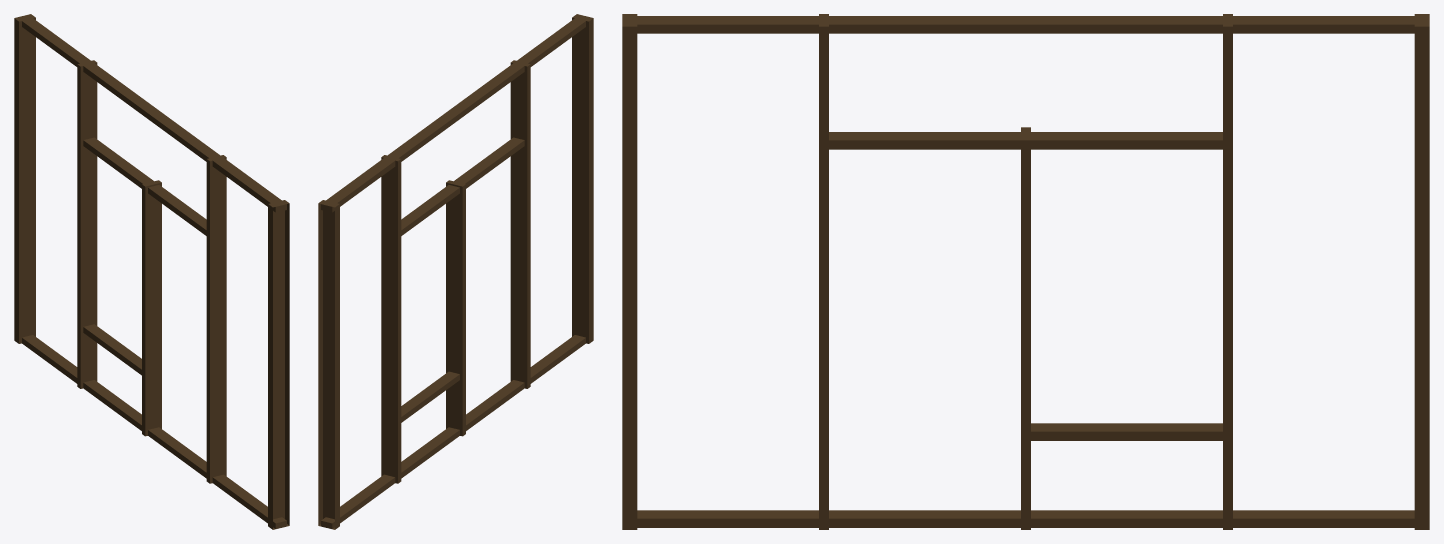
Rendered from SM_basementWall_02.gltf.
The picture shows the model from 3 angles, left to right: view 1: azimuth 30°, elevation 25°; view 2: azimuth 150°, elevation 25°; view 3: azimuth 270°, elevation 25°; orthographic projection. The views are drawn at different scales.
Parts seen in each view (by area): view 1: SM_basementWall_02; view 2: SM_basementWall_02; view 3: SM_basementWall_02.
Boxes of the visible parts, x1,y1,x2,y2 form: SM_basementWall_02: (14, 14, 289, 529); SM_basementWall_02: (318, 14, 593, 529); SM_basementWall_02: (622, 14, 1429, 529).
Bounding box in the file's own units: 0.15 × 2.75 × 4.
